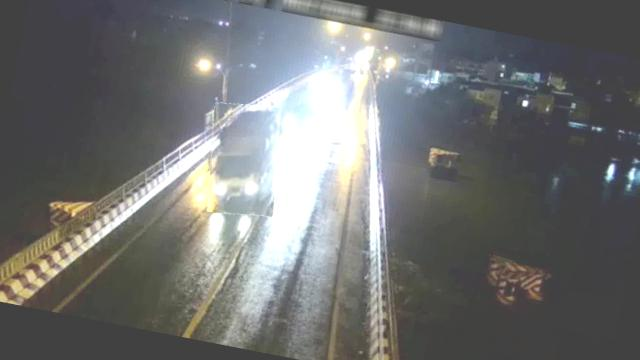Truck: (198, 96, 290, 222)
